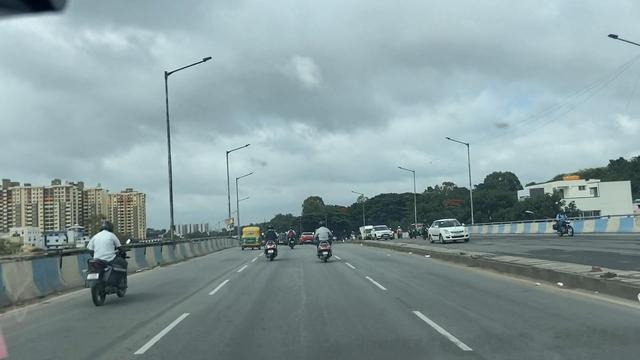LMV: (88, 222, 113, 295), (316, 222, 337, 262), (264, 226, 278, 264), (240, 225, 258, 251), (283, 224, 297, 253)
